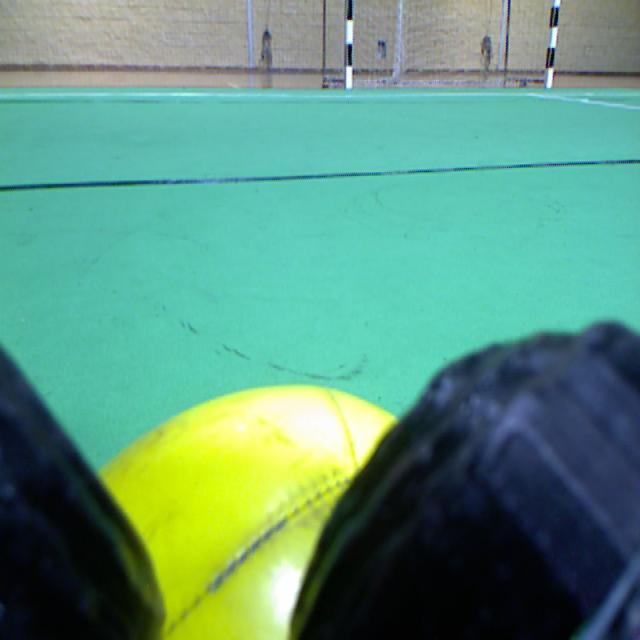ball: (100, 385, 395, 637)
